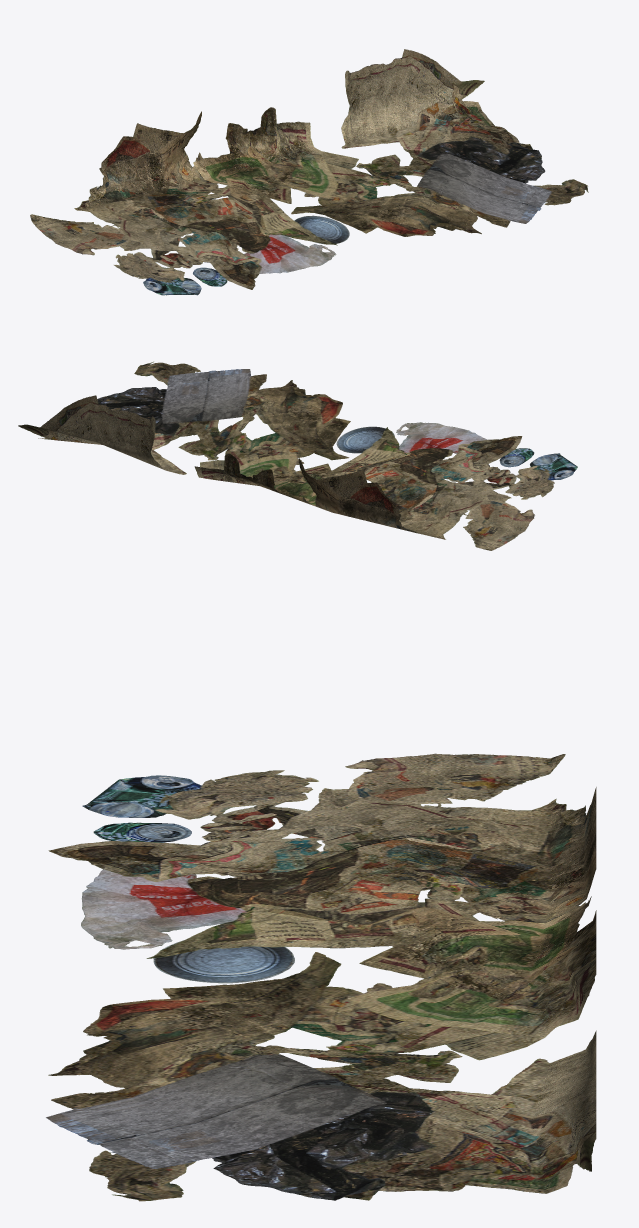
Rendered from 3D_Decal_06.fbx.
3 views of the same model, one above another, from view 1: azimuth 30°, elevation 25°; view 2: azimuth 150°, elevation 25°; view 3: azimuth 270°, elevation 25° (orthographic). The views are drawn at different scales.
Parts seen in each view (by area): view 1: THREED_Decal; view 2: THREED_Decal; view 3: THREED_Decal.
Boxes of the visible parts, left/top/right/bottom form: THREED_Decal: left=30, top=49, right=588, bottom=295; THREED_Decal: left=18, top=361, right=577, bottom=550; THREED_Decal: left=46, top=753, right=596, bottom=1201.
Bounding box in the file's own units: 2.42 × 0.4172 × 1.23.
